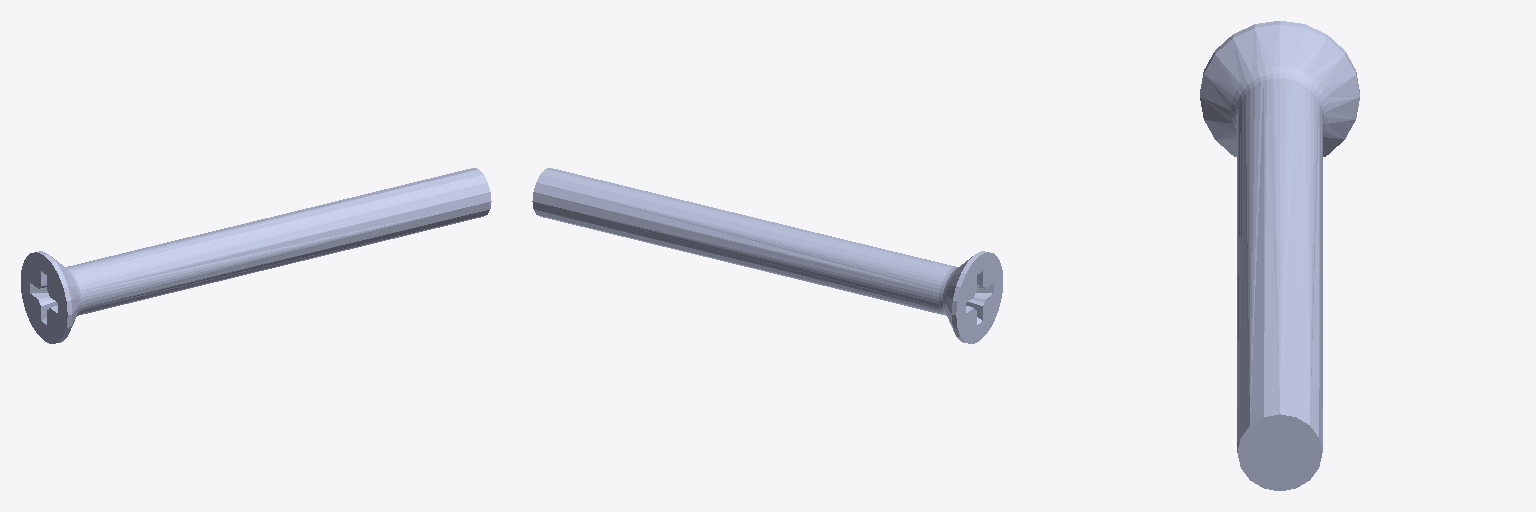
The robot description file, URDF, robot "C104322.SLDPRT":
<?xml version="1.0" encoding="utf-8"?>
<!-- This URDF was automatically created by SolidWorks to URDF Exporter! Originally created by [author] ([email redacted]) 
     Commit Version: 1.5.1-0-g916b5db  Build Version: 1.5.7152.31018
     For more information, please see http://wiki.ros.org/sw_urdf_exporter -->
<robot
  name="C104322.SLDPRT">
  <link
    name="C104322.SLDPRT">
    <inertial>
      <origin
        xyz="0.028536 -9.8755E-20 -7.8235E-20"
        rpy="0 0 0" />
      <mass
        value="0.0017863" />
      <inertia
        ixx="9.8797E-09"
        ixy="1.3179E-19"
        ixz="1.3179E-19"
        iyy="5.862E-07"
        iyz="2.2882E-25"
        izz="5.862E-07" />
    </inertial>
    <visual>
      <origin
        xyz="0 0 0"
        rpy="0 0 0" />
      <geometry>
        <mesh
          filename="package://C104322.SLDPRT/meshes/C104322.SLDPRT.STL" />
      </geometry>
      <material
        name="">
        <color
          rgba="0.79216 0.81961 0.93333 1" />
        <texture
          filename="package://C104322.SLDPRT/textures/" />
      </material>
    </visual>
    <collision>
      <origin
        xyz="0 0 0"
        rpy="0 0 0" />
      <geometry>
        <mesh
          filename="package://C104322.SLDPRT/meshes/c104322.SLDPRT.STL" />
      </geometry>
    </collision>
  </link>
</robot>

--- Render facts (derived) ---
3 views of the same robot in one strip: view 1: azimuth 30°, elevation 25°; view 2: azimuth 150°, elevation 25°; view 3: azimuth 270°, elevation 25° (orthographic).
Model C104322.SLDPRT with 1 links and 0 joints (none), rooted at C104322.SLDPRT, posed every joint at zero.
Links seen in each view (by area): view 1: C104322.SLDPRT; view 2: C104322.SLDPRT; view 3: C104322.SLDPRT.
Boxes of the visible links, x1,y1,x2,y2 form: C104322.SLDPRT: (21,168,491,343); C104322.SLDPRT: (532,168,1002,343); C104322.SLDPRT: (1200,21,1359,490).
Size in the robot's own frame: 0.06 by 0.0113 by 0.0113 metres.
1 mesh visuals loaded from 1 distinct referenced files (1 binary STL).